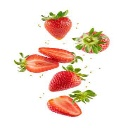strawberry: (37, 11, 76, 41), (43, 95, 89, 119), (46, 67, 87, 92), (14, 53, 65, 73), (77, 30, 110, 55)
